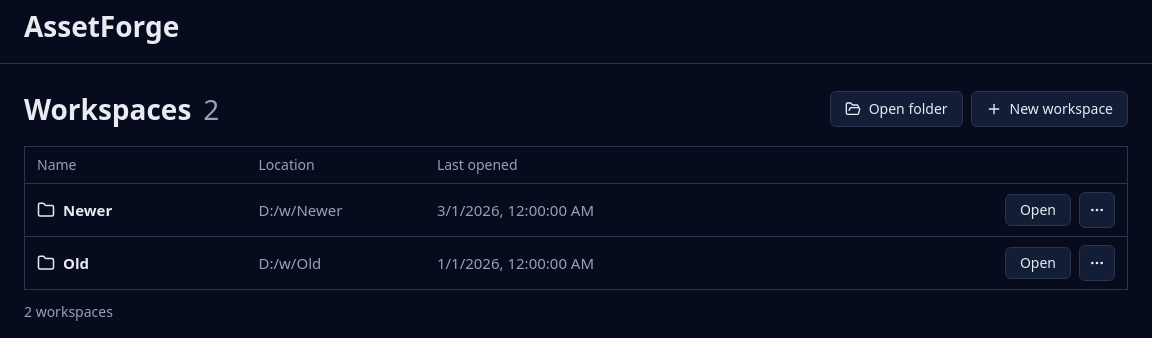
Test: workspaces are sorted by last opened, newest first, and the row menu removes
The image size is (1152, 338).
Expected: the text "Newer" is shown, [37,200,112,220]
Expected: the text "Old" is shown, [37,253,89,273]
Click the button named "Actions": (1097, 210) [1079,192,1115,228]
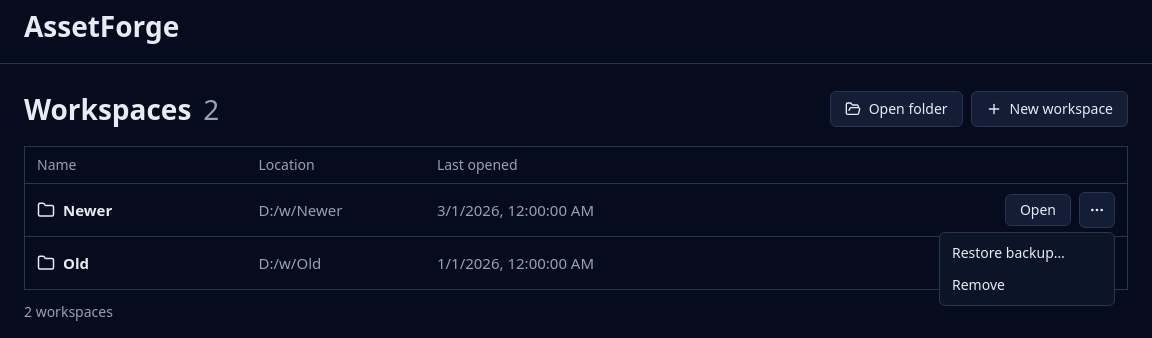
Click the menu item "Remove": (978, 284) [952,275,1005,294]
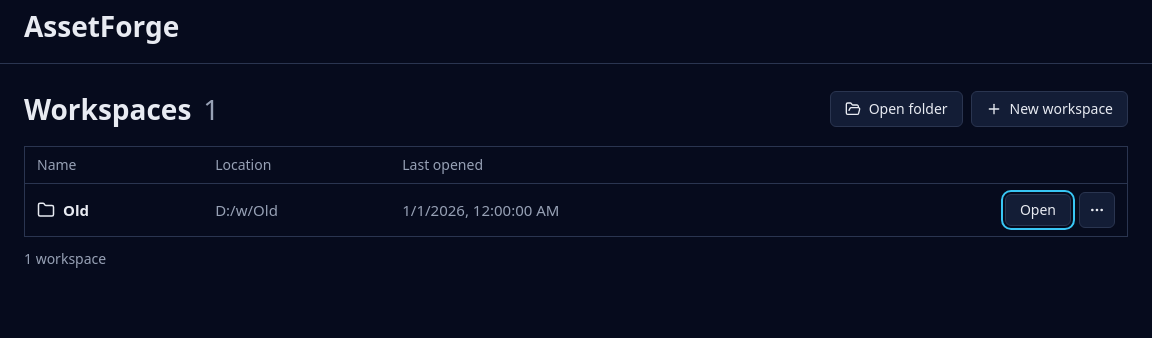
Now the text "Newer" is gone
Now the text "1 workspace" is shown, box [24,249,106,268]
